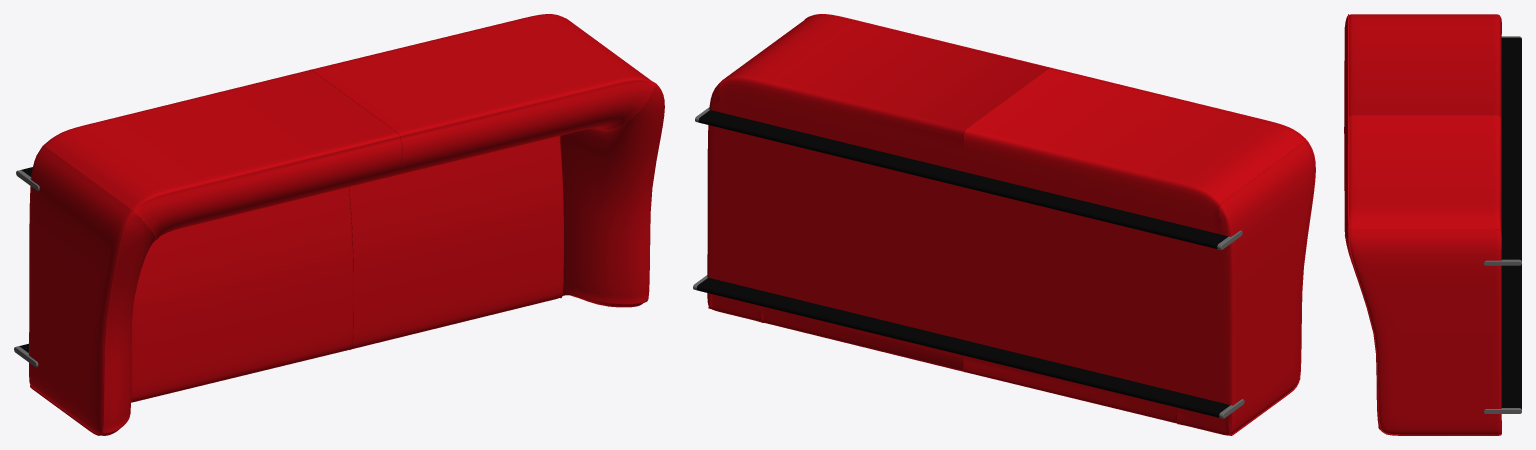
Rendered from ligne_roset_snowdonia_large_settee_main_02_obj.obj.
The picture shows the model from 3 angles, left to right: view 1: azimuth 30°, elevation 25°; view 2: azimuth 150°, elevation 25°; view 3: azimuth 270°, elevation 25°; orthographic projection. The views are drawn at different scales.
Parts seen in each view (by area): view 1: ligne_roset_snowdonia_large_settee; view 2: ligne_roset_snowdonia_large_settee; view 3: ligne_roset_snowdonia_large_settee.
Boxes of the visible parts, box(x1,y1,x2,y2) form: ligne_roset_snowdonia_large_settee: box(14, 14, 664, 435); ligne_roset_snowdonia_large_settee: box(693, 14, 1315, 435); ligne_roset_snowdonia_large_settee: box(1344, 14, 1521, 435).
Size of the model in its own units: 211 by 92.78 by 70.02.
